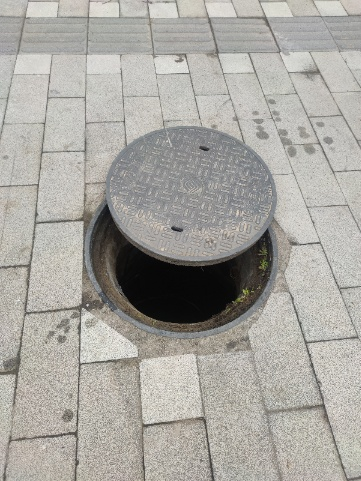well: (85, 122, 280, 337)
